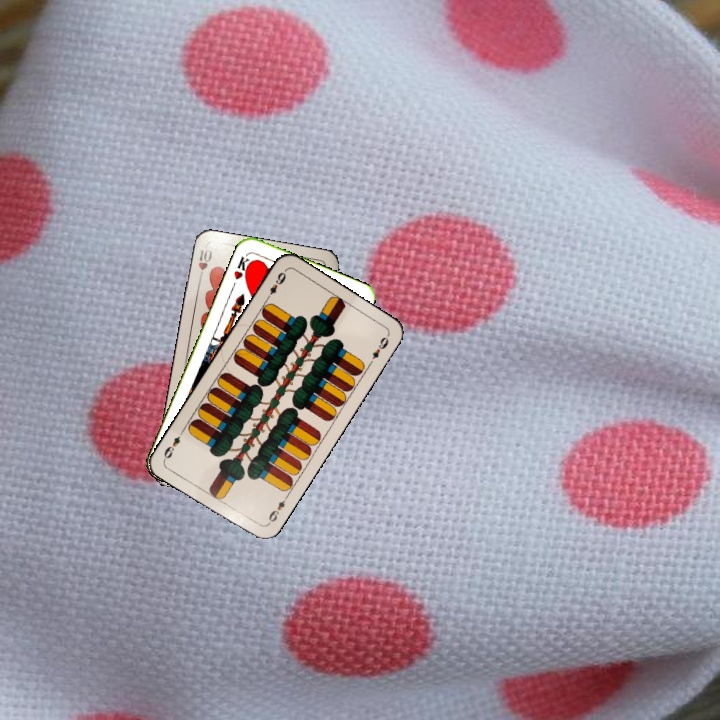E9: (263, 492, 290, 528), (262, 268, 289, 303)
H10: (194, 243, 215, 284)
HK: (230, 250, 255, 282)
